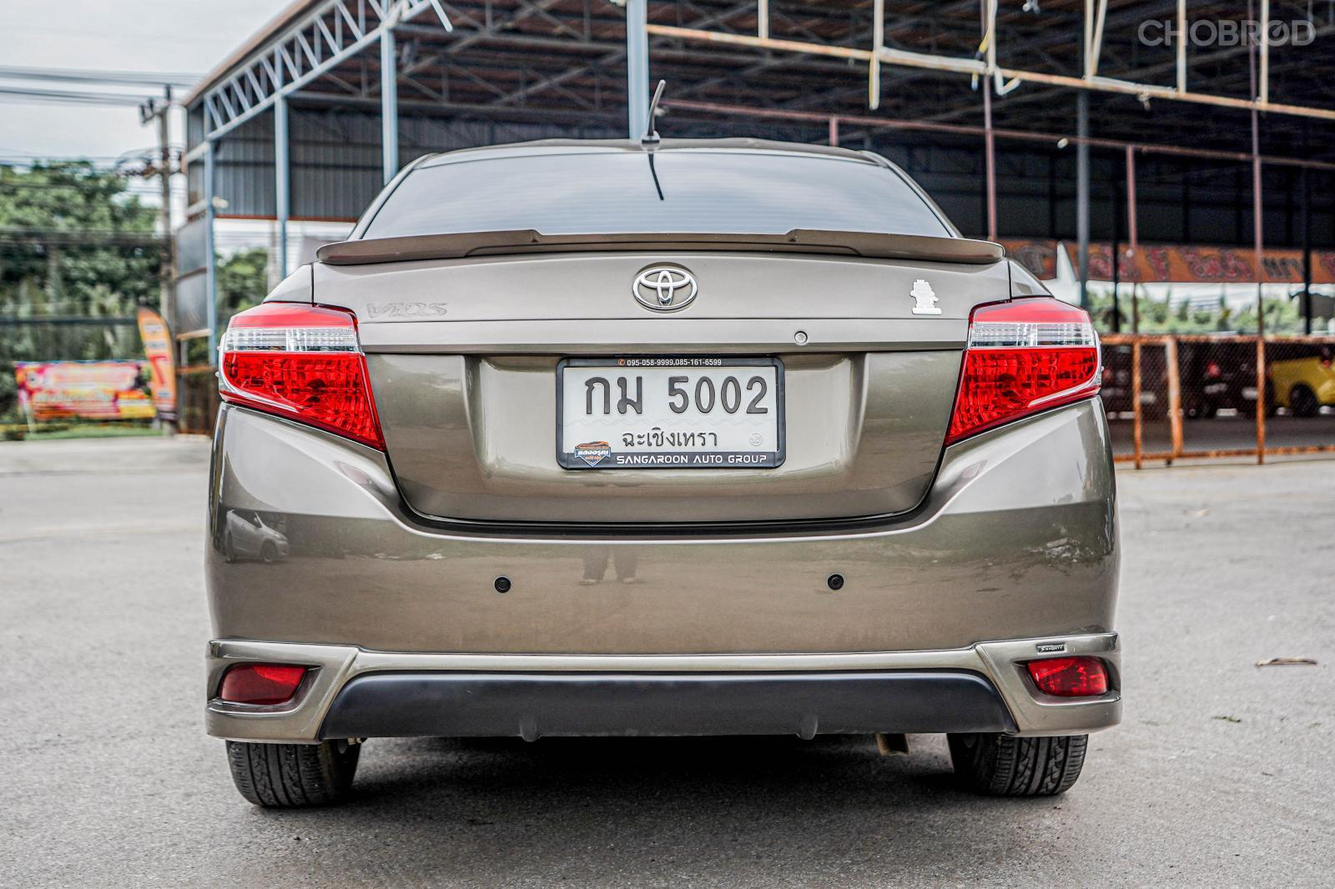license-plate: (549, 349, 796, 479)
